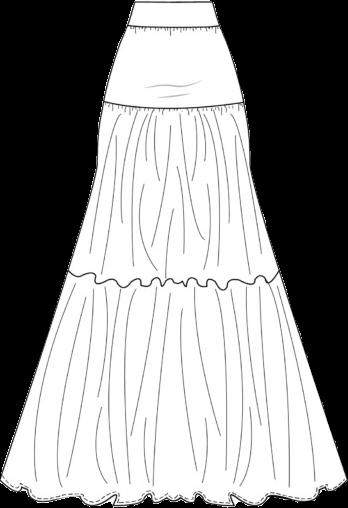Hemline: (0, 474, 347, 507)
Waistline: (64, 267, 278, 290), (101, 98, 245, 113), (127, 20, 219, 30), (132, 0, 212, 3)
